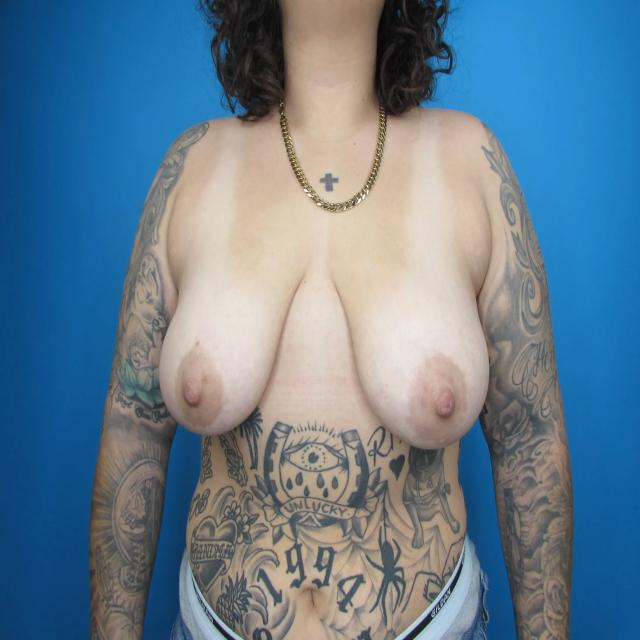Seno ileso: (321, 219, 496, 464), (153, 216, 314, 451)
